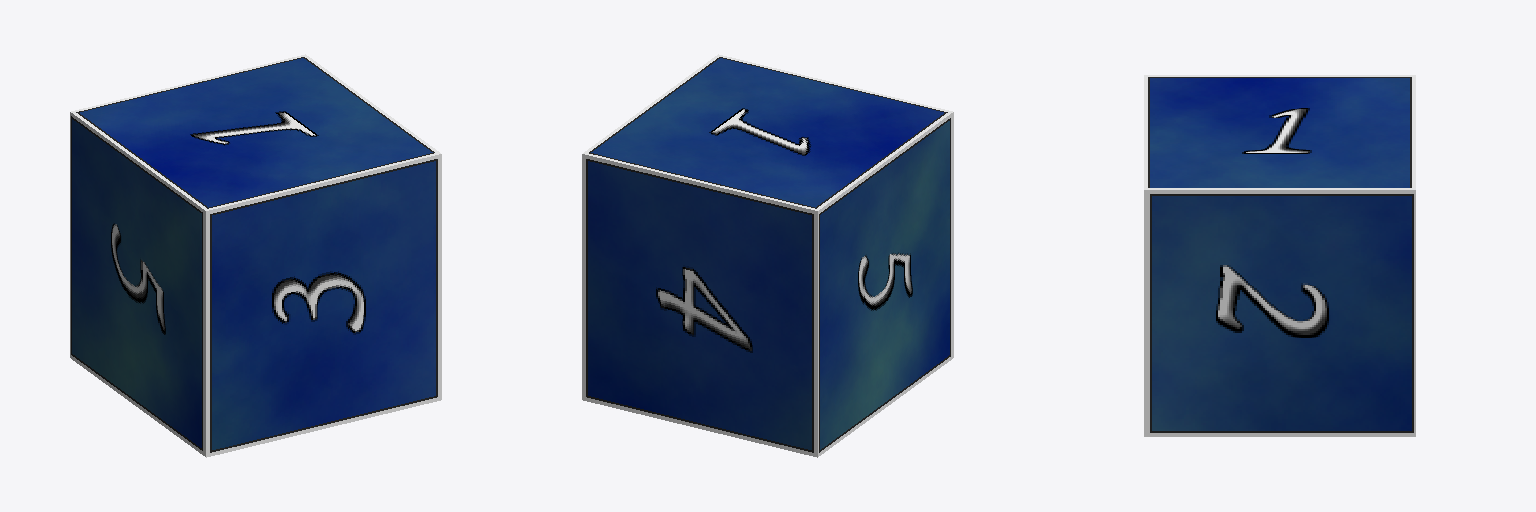
The picture shows the model from 3 angles: view 1: azimuth 30°, elevation 25°; view 2: azimuth 150°, elevation 25°; view 3: azimuth 270°, elevation 25°; orthographic projection.
Parts seen in each view (by area): view 1: Cube_Cube.001; view 2: Cube_Cube.001; view 3: Cube_Cube.001.
Part boxes in pixels (left/top/right/bottom): Cube_Cube.001: left=70, top=54, right=441, bottom=457; Cube_Cube.001: left=582, top=54, right=953, bottom=457; Cube_Cube.001: left=1144, top=75, right=1415, bottom=436.
Bounding box in the file's own units: 0.373 × 0.373 × 0.373.
1 materials, 1 textured.